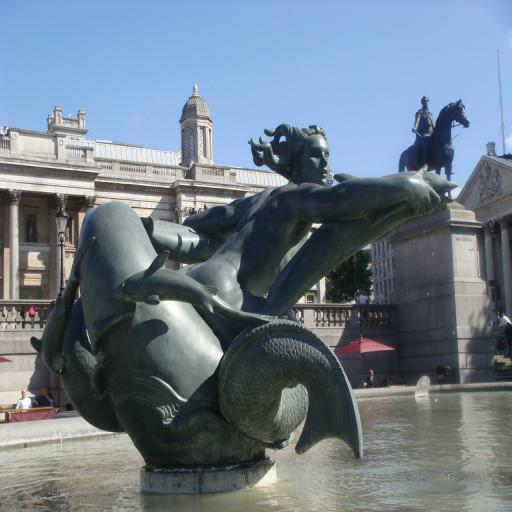horse: (398, 100, 471, 198)
